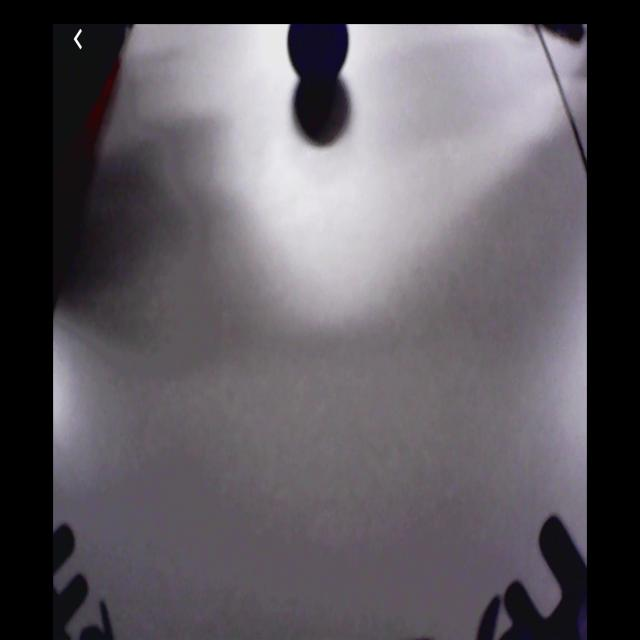ball: (289, 25, 350, 78)
